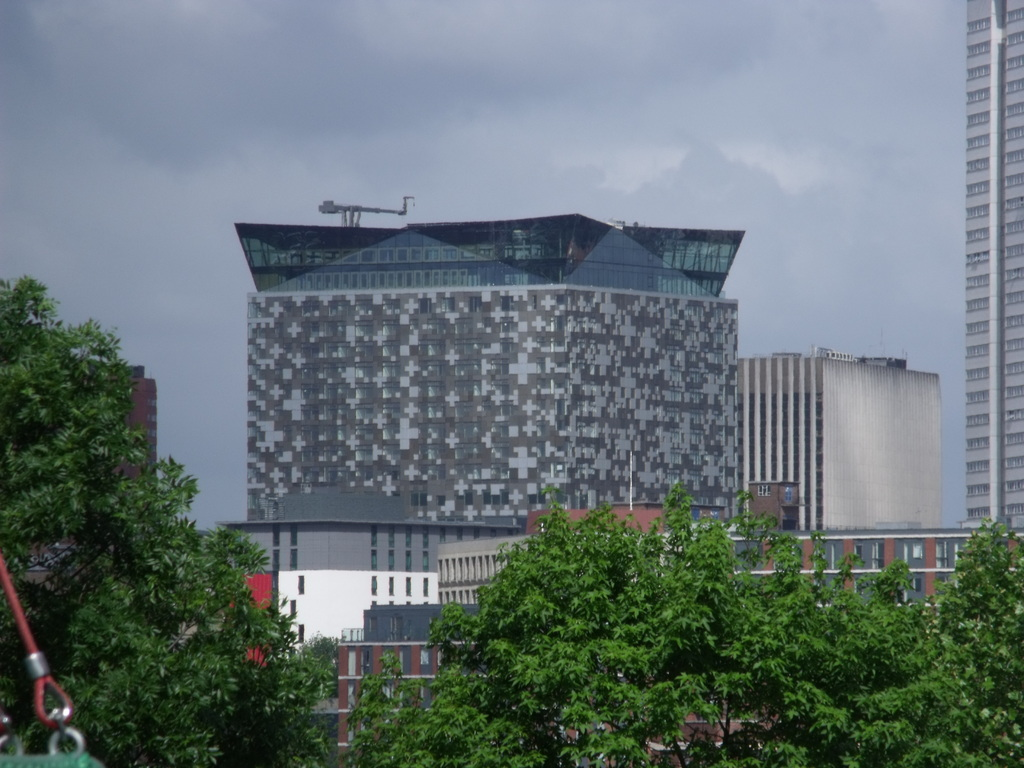Tree: (0, 276, 344, 761), (367, 512, 914, 767)
